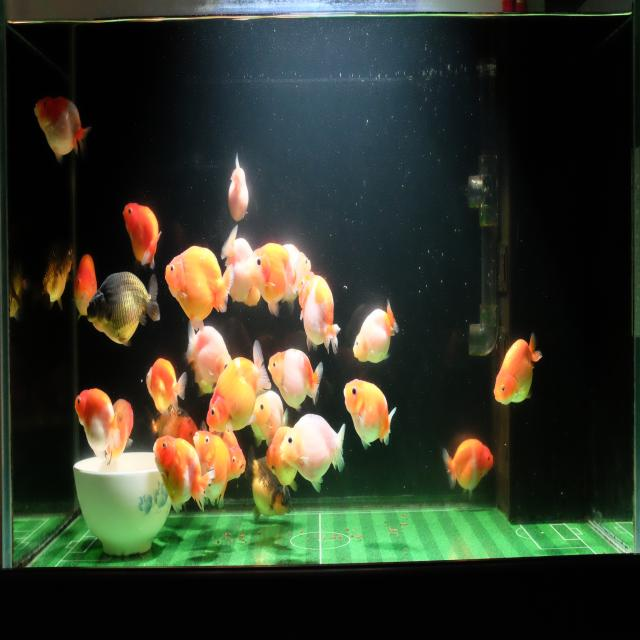Tilapia: (162, 241, 236, 333), (204, 338, 271, 436), (83, 269, 161, 352), (279, 411, 347, 495), (152, 430, 215, 518), (342, 376, 398, 454), (33, 92, 92, 166), (491, 331, 544, 410), (246, 242, 299, 320), (296, 271, 343, 358), (266, 344, 324, 411), (218, 221, 262, 308), (247, 446, 294, 526), (441, 435, 495, 502), (74, 384, 120, 462), (352, 297, 402, 366), (185, 319, 235, 386), (31, 236, 74, 313), (194, 430, 232, 511), (122, 198, 162, 270), (144, 354, 186, 418), (281, 240, 311, 317), (105, 397, 135, 472), (72, 250, 99, 323), (149, 406, 197, 447), (226, 149, 250, 228), (253, 390, 283, 450), (220, 430, 247, 488)
